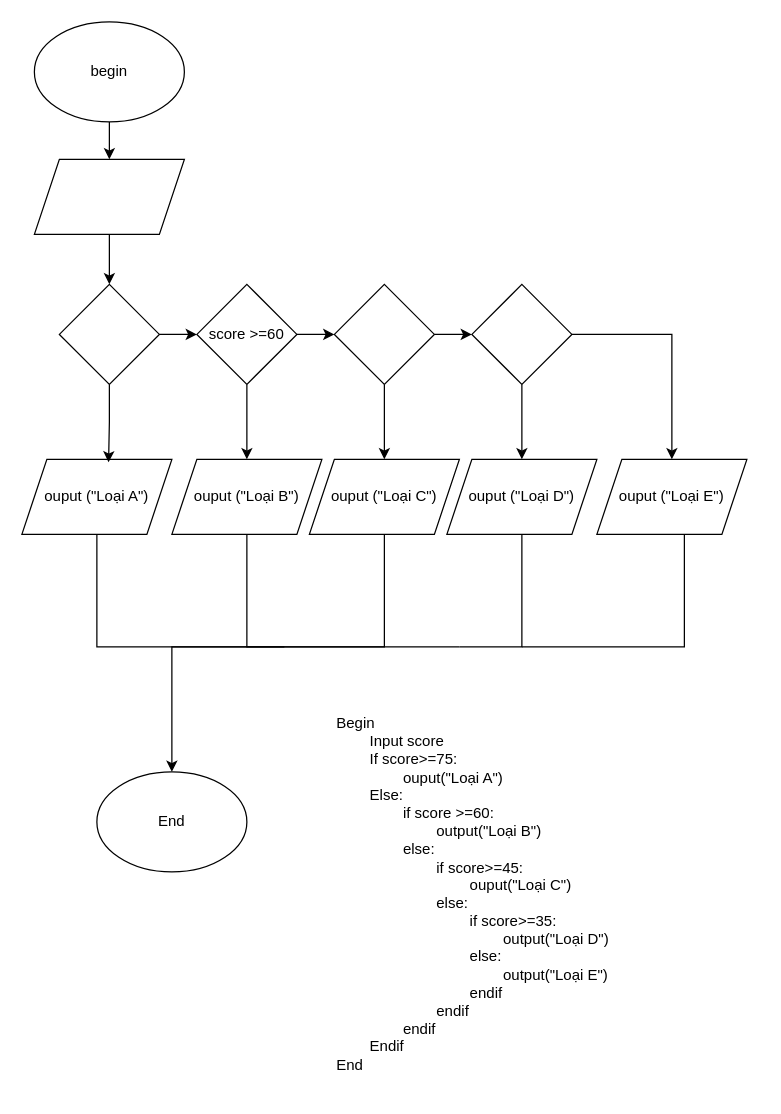
This 781x1114 diagram has some shape labels left out. Here are the shapes that lost their labels. From the top down, the centre of each, then its label:
the point at 108,196: input score
the point at 108,333: score >=75
the point at 383,333: score >=45
the point at 521,333: score >=35
